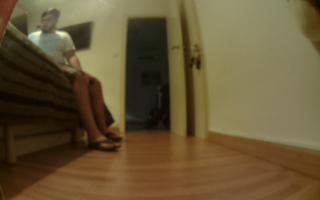person: (34, 3, 134, 156)
